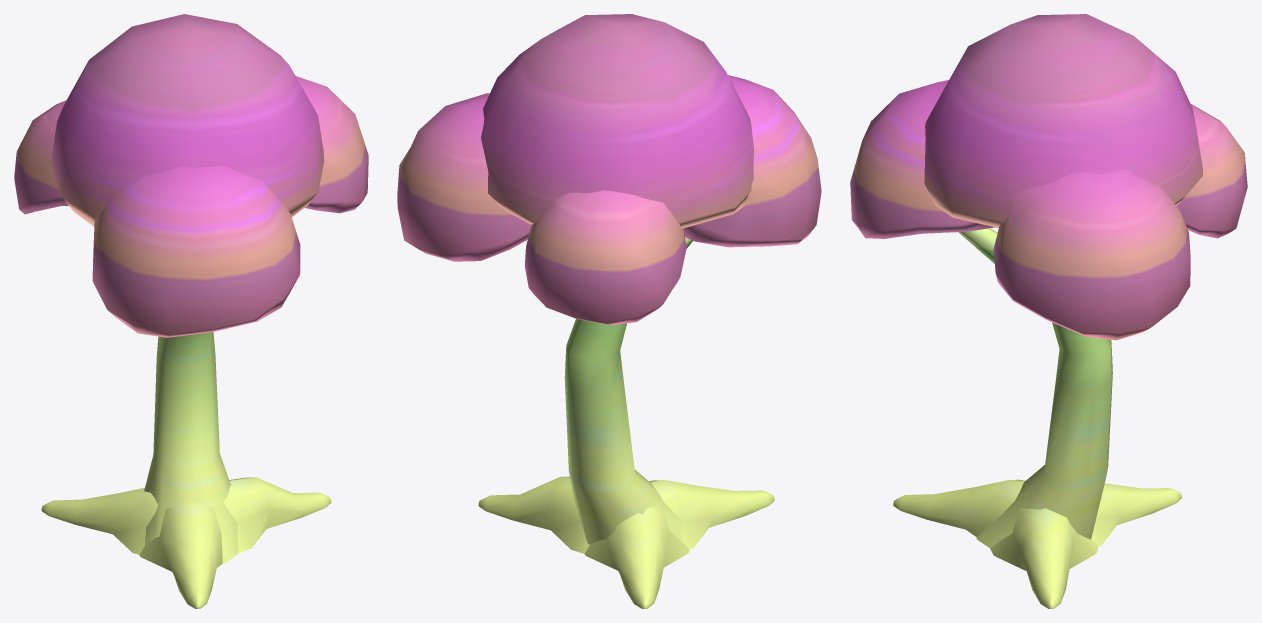
File: grande_seta07.fbx
3 views of the same model, side by side, from view 1: azimuth 30°, elevation 25°; view 2: azimuth 150°, elevation 25°; view 3: azimuth 270°, elevation 25° (orthographic). The views are drawn at different scales.
Visible parts, largest first — view 1: SetaXL_07; view 2: SetaXL_07; view 3: SetaXL_07.
Boxes of the visible parts, x1,y1,x2,y2 form: SetaXL_07: (14,14,368,608); SetaXL_07: (397,14,821,608); SetaXL_07: (850,14,1247,608).
Size of the model in its own units: 5655 by 8549 by 5983.
1 material, 1 textured.
